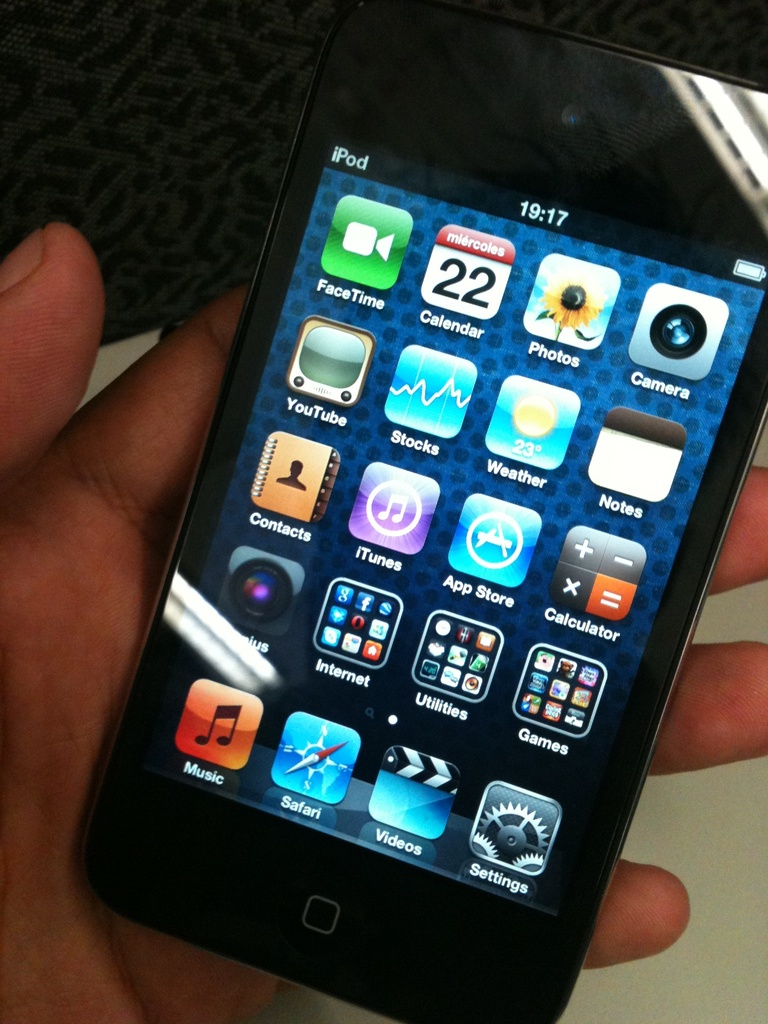Mobile-phone: (72, 80, 768, 1024)
